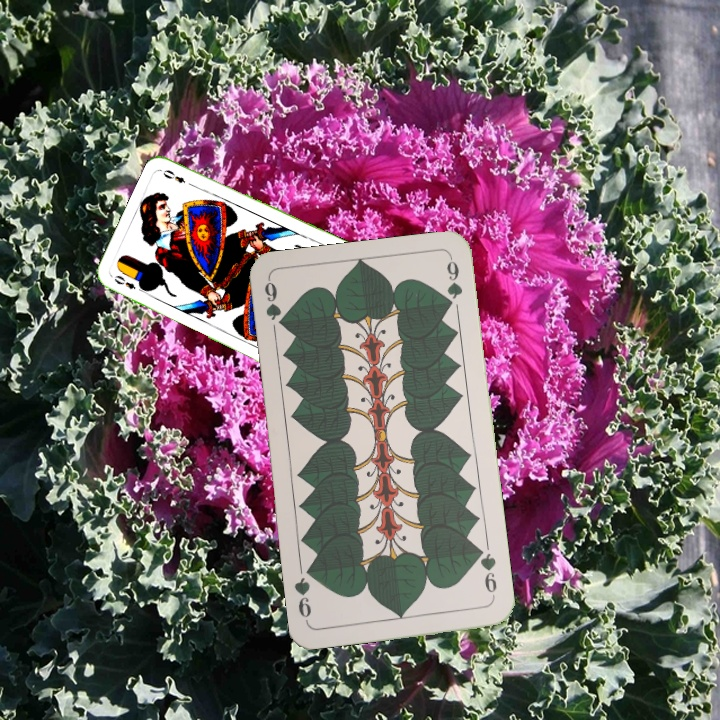EO: (110, 271, 147, 296)
G9: (473, 544, 500, 602), (260, 276, 287, 330)
